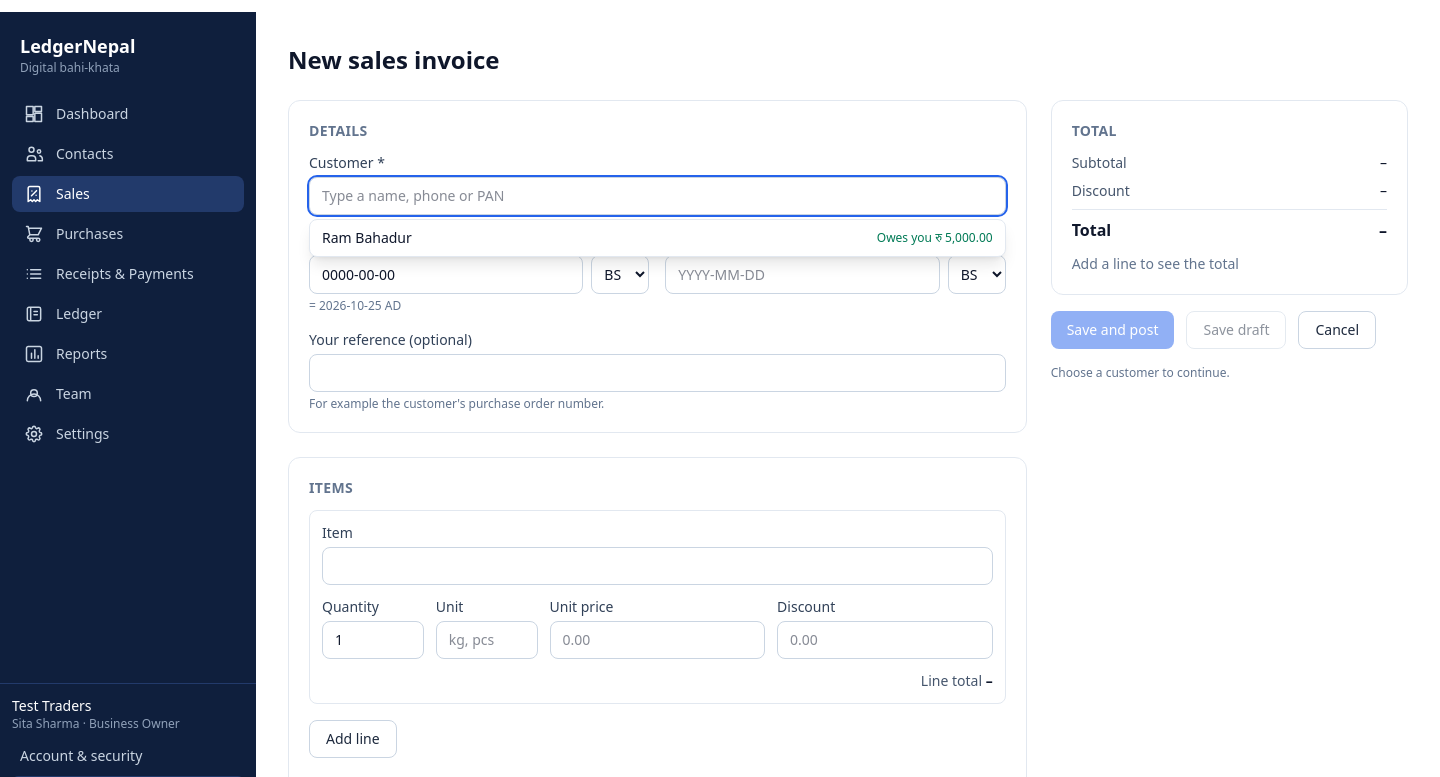
Test: the form › removes a line, but never the last one
Expected: the heading "New sales invoice" is shown, [288,44,500,76]
Click the button "Add line". click: (353, 739)
box: [309,720,397,758]
(page scrolled)
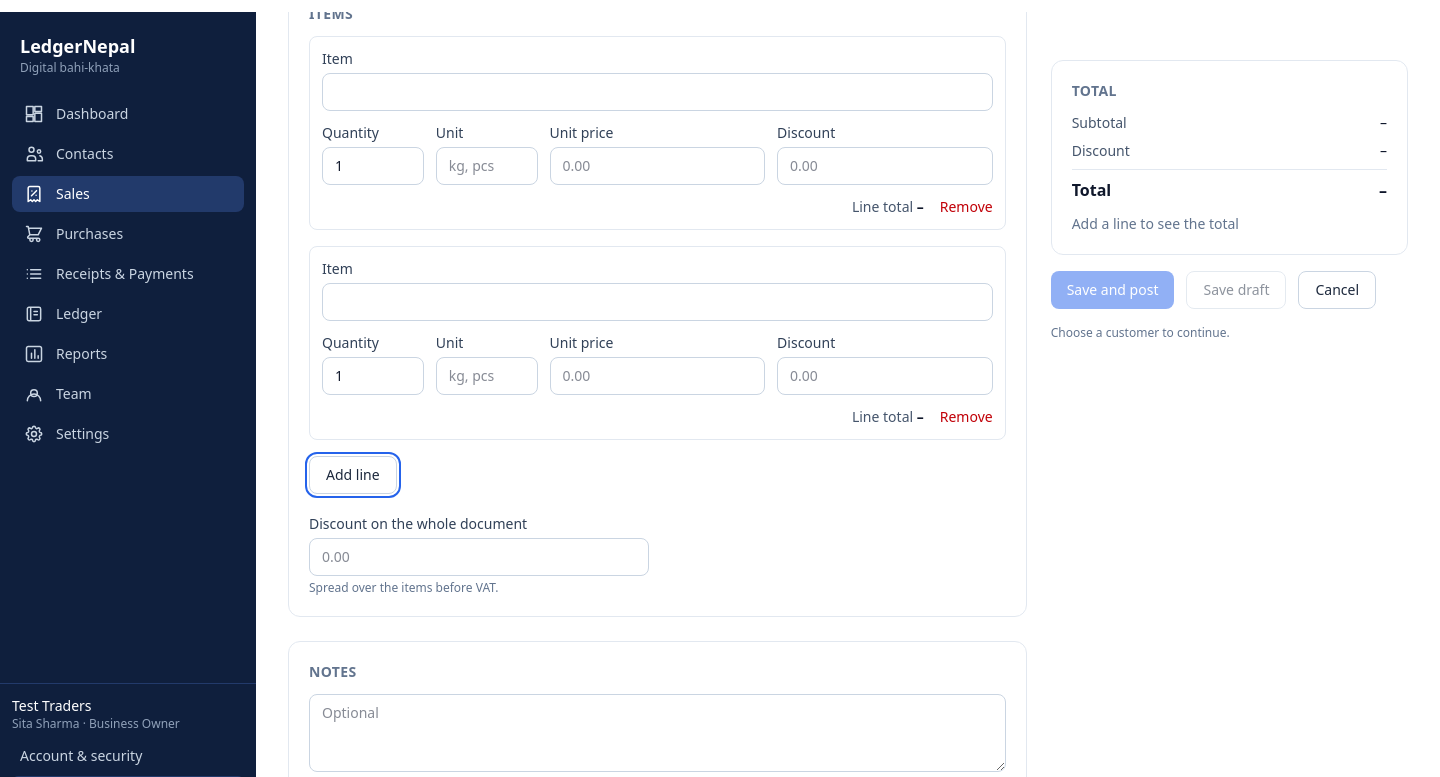
Click the button with aria-label "Remove line 2". click: (966, 417)
box: [940,407,993,427]
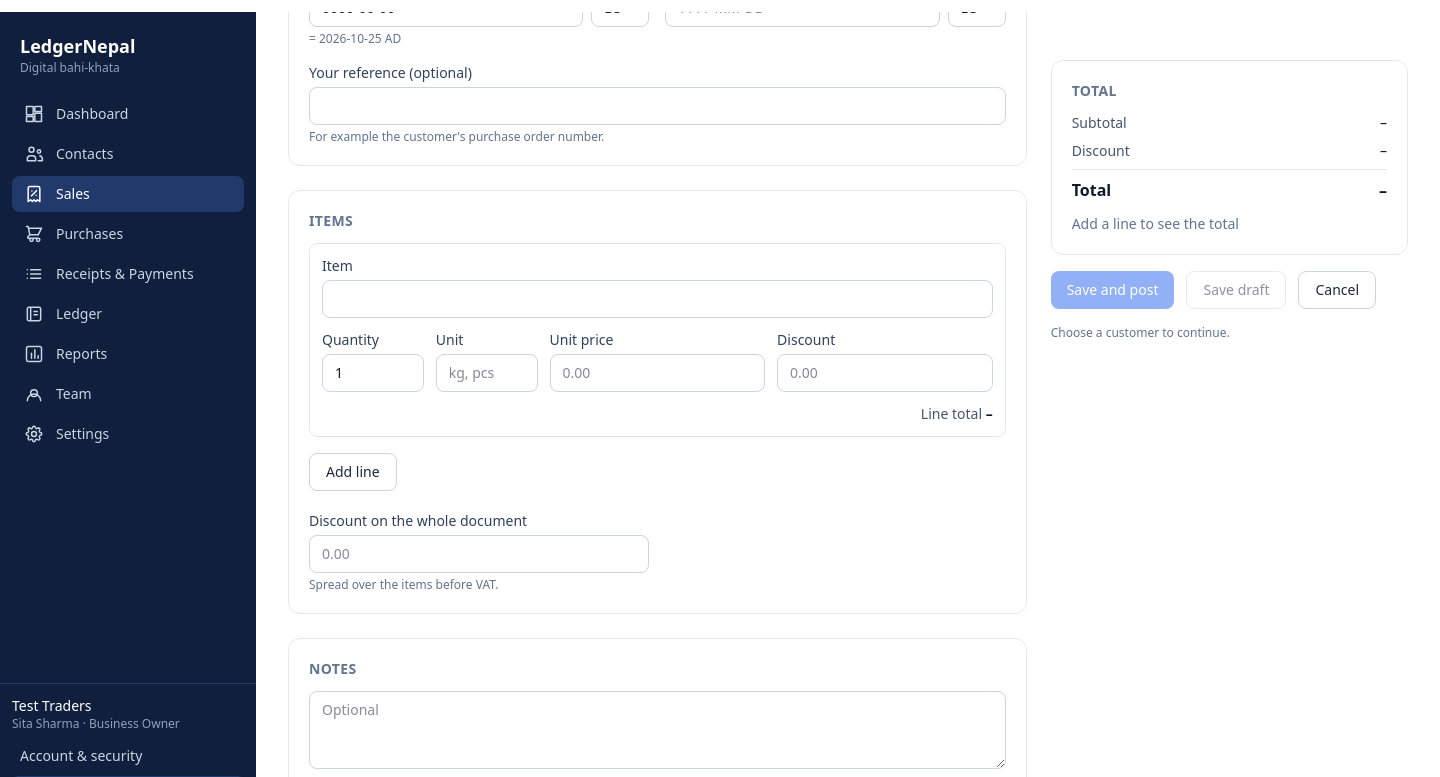
Result: the number of elements "Item Quantity Unit Unit price Discount Line total –" is 1 at [309,243,1006,437]
